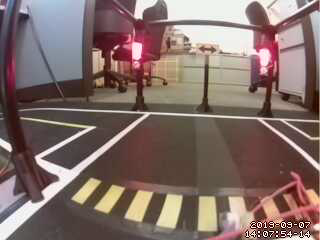Left_Right_sign: (196, 40, 220, 56)
Traffic_light_red: (258, 45, 272, 75), (130, 40, 144, 65)
